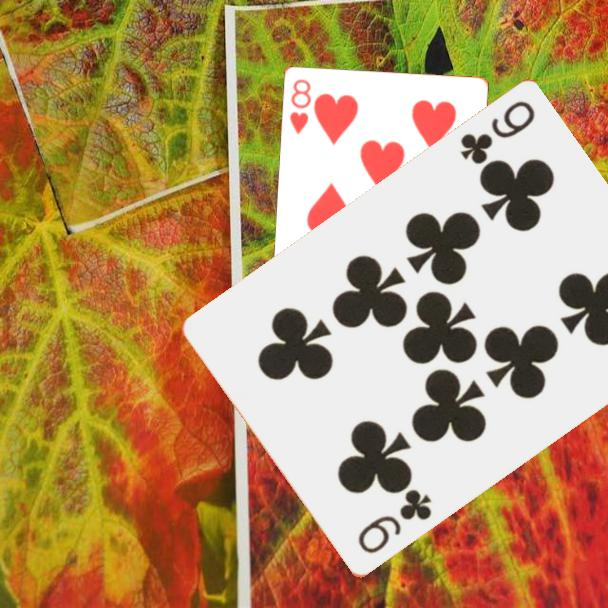c09: (456, 97, 538, 169), (354, 486, 435, 557)
h08: (286, 76, 314, 138)
